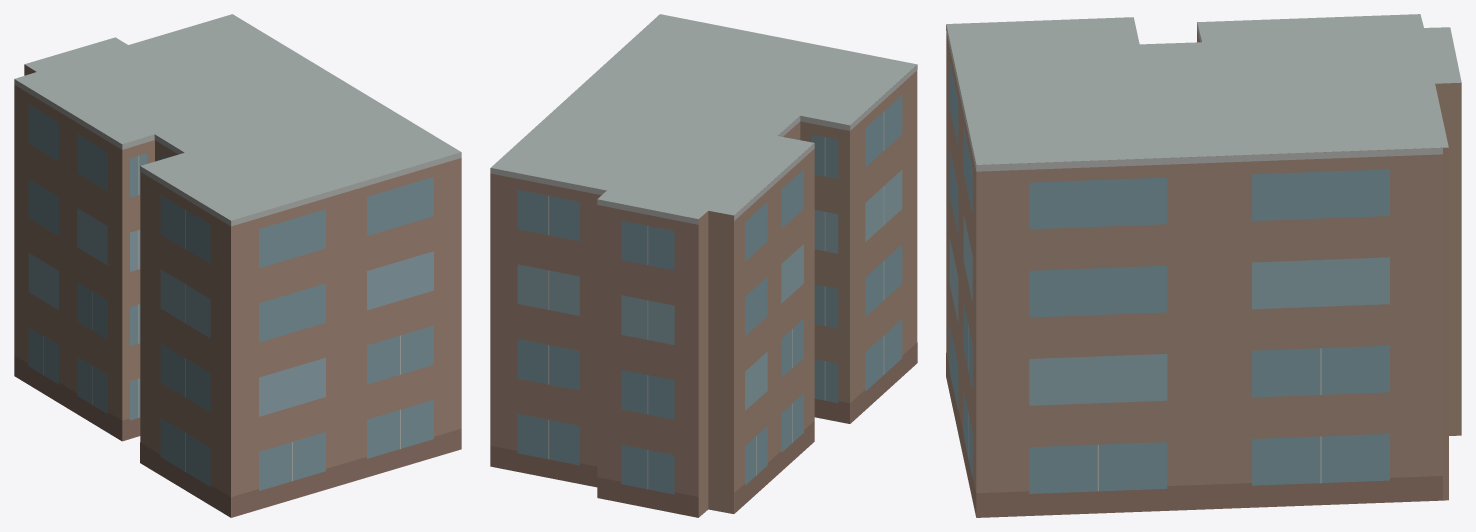
The model's file is survey-upis-32615206.glb.
The picture shows the model from 3 angles, left to right: view 1: azimuth 30°, elevation 25°; view 2: azimuth 150°, elevation 25°; view 3: azimuth 270°, elevation 25°; orthographic projection. The views are drawn at different scales.
Visible parts, largest first — view 1: survey-upis-32615206.tmp; view 2: survey-upis-32615206.tmp; view 3: survey-upis-32615206.tmp.
Part boxes in pixels (<box>): survey-upis-32615206.tmp: <box>14,14,461,517</box>; survey-upis-32615206.tmp: <box>490,14,917,517</box>; survey-upis-32615206.tmp: <box>946,14,1461,517</box>.
Bounding box in the file's own units: 11.85 × 12.9 × 17.09.
